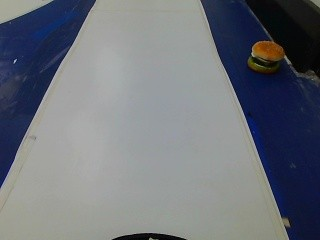burger: (247, 37, 287, 77)
